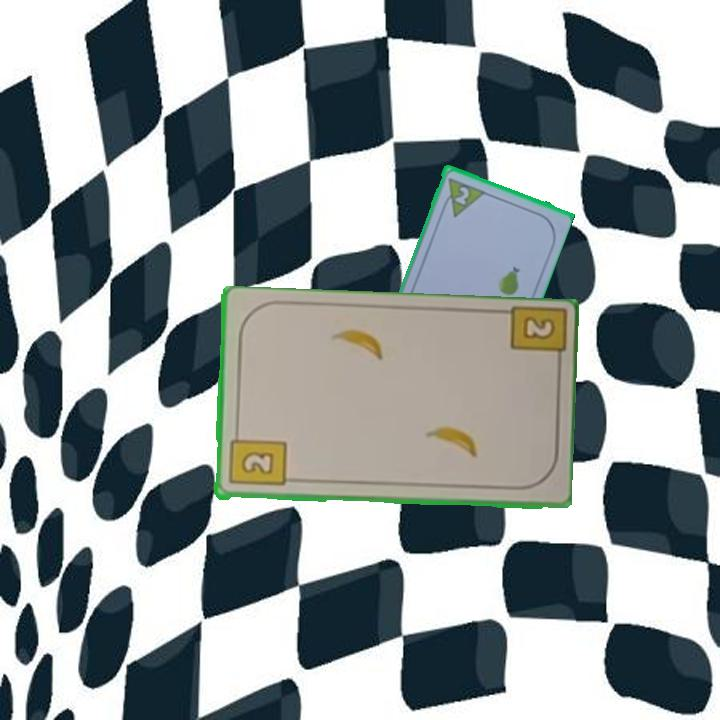2b: (504, 305, 565, 372), (225, 427, 288, 490)
2p: (437, 173, 486, 219)
